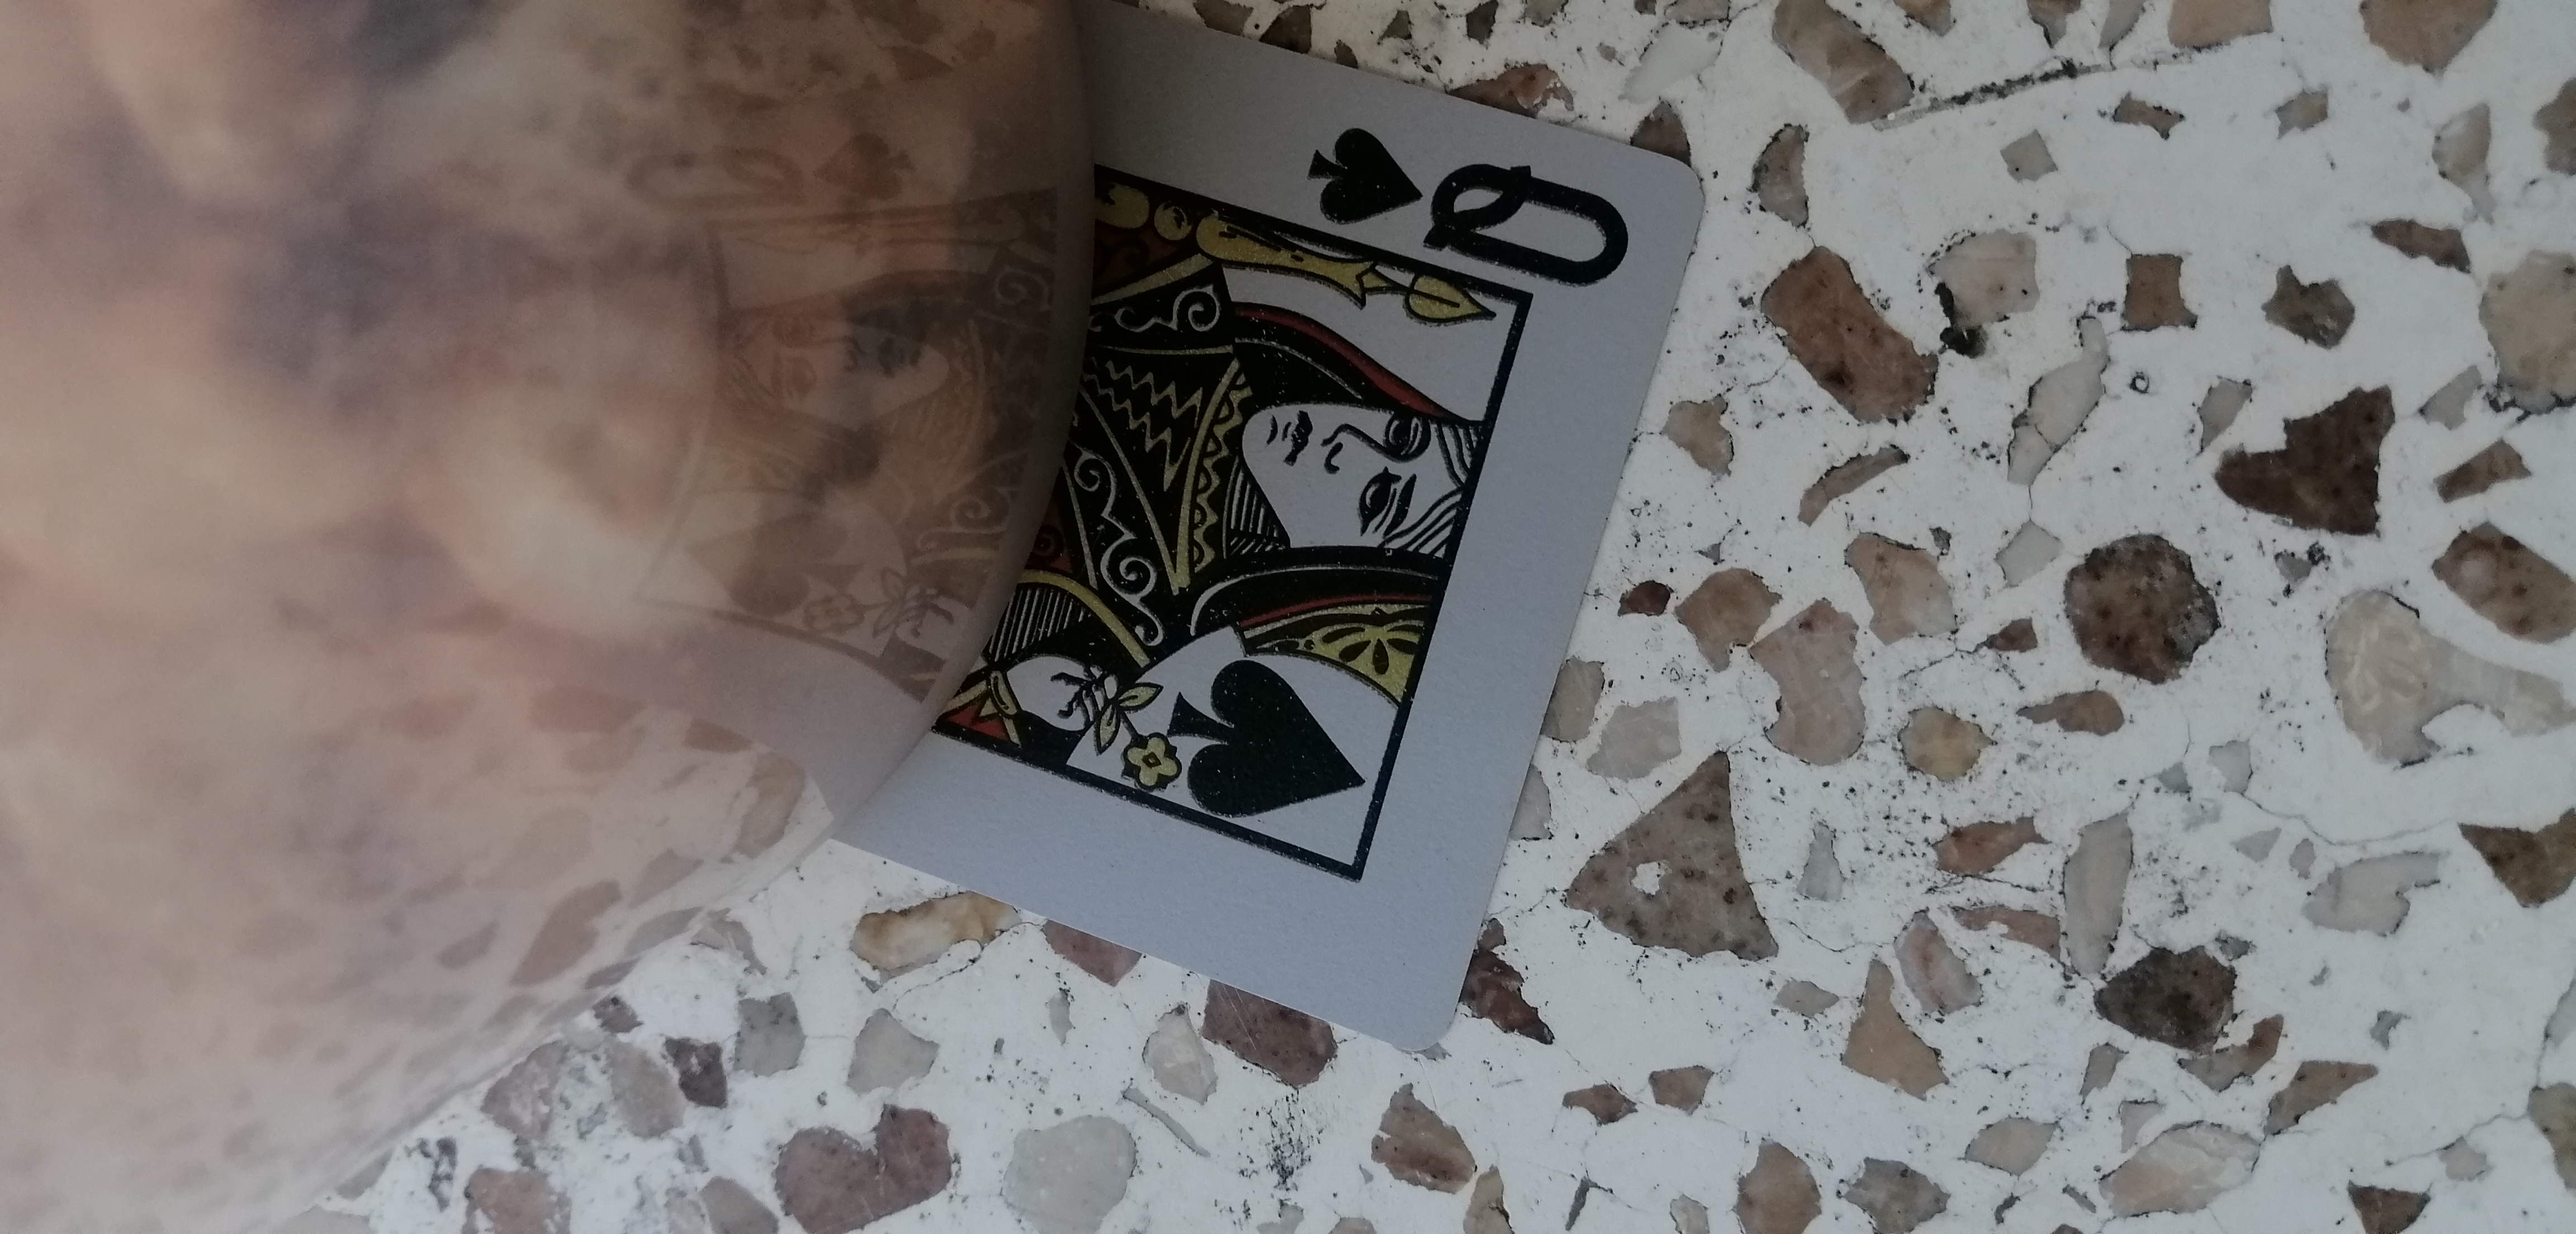queen: (792, 30, 1682, 1037)
